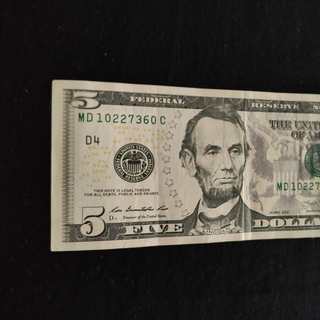5USDFront: (50, 78, 320, 252)
